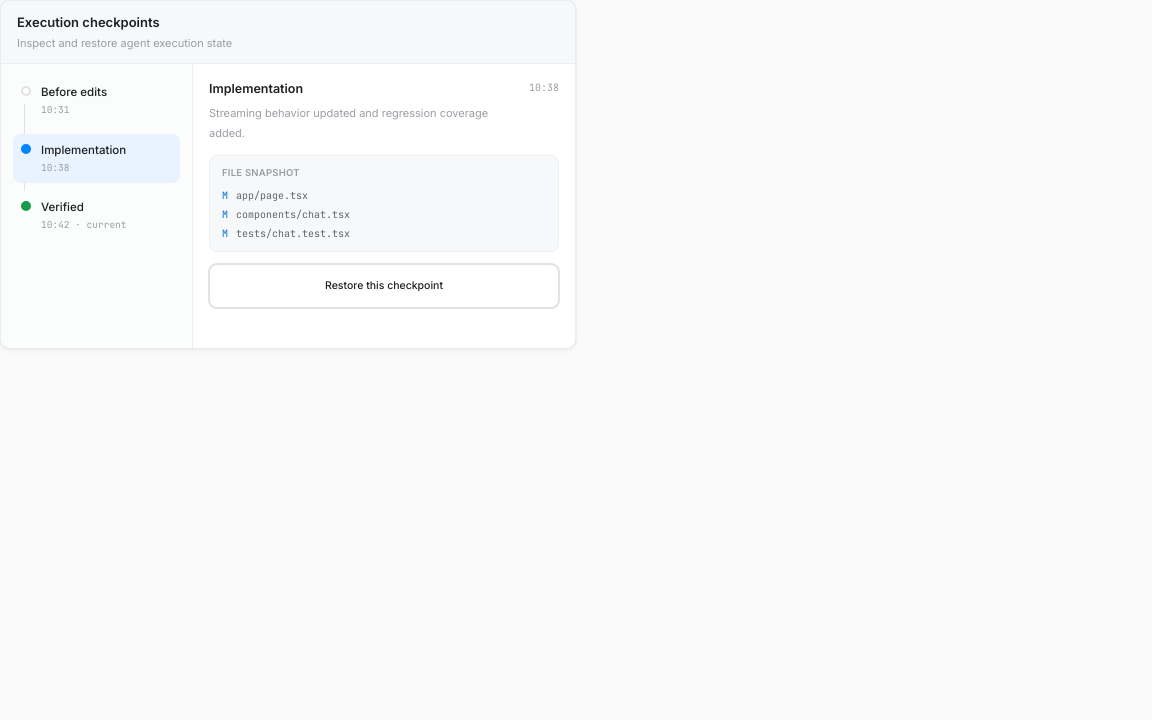
Scenario: CheckpointTimeline › requires confirmation and supports cancellation
What coordinates should you click on to do the following:
click the button with aria-label "Select checkpoint Before edits"
I would click on:
 (96, 101)
Its box is [13, 76, 180, 126].
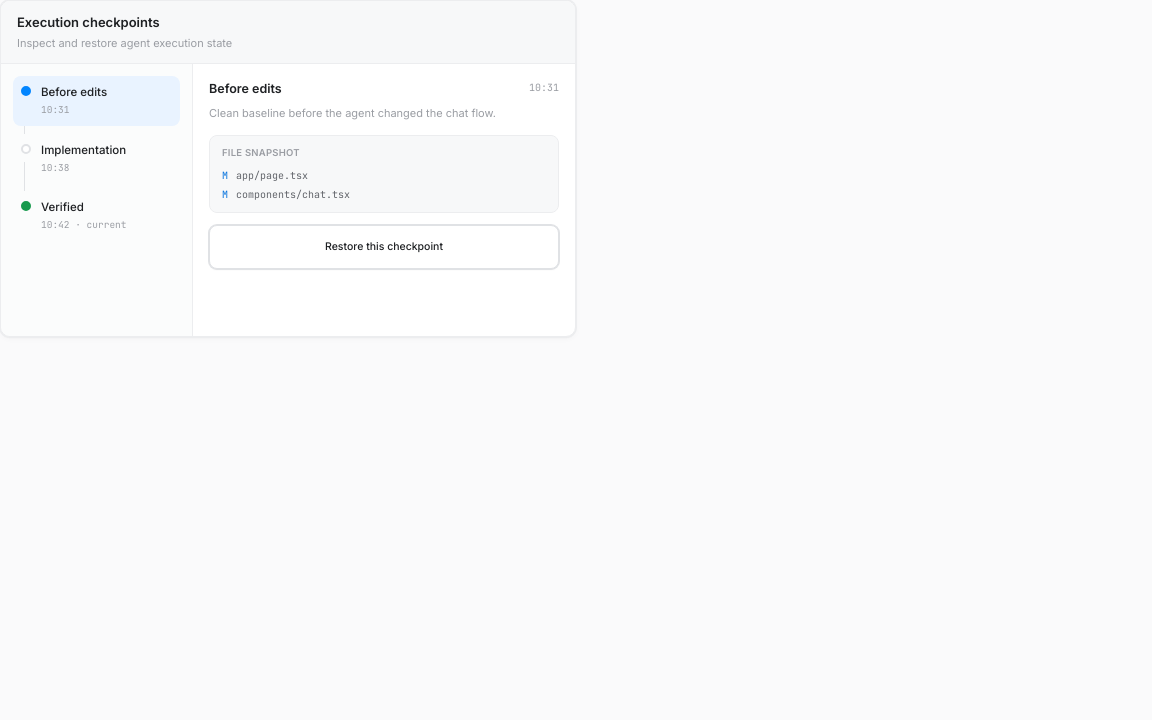
What coordinates should you click on to do the following:
click the button with aria-label "Restore checkpoint"
I would click on:
 (384, 247)
Its box is [209, 225, 559, 269].
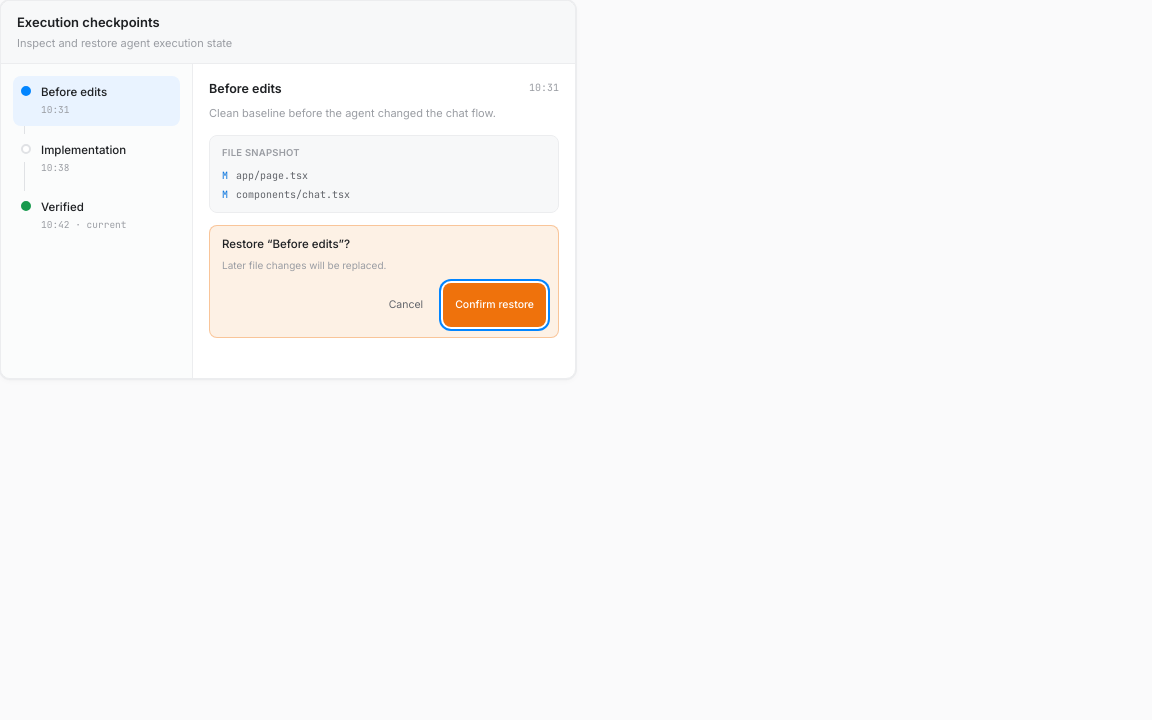
Expected: the text "Restore “Before edits”?" is shown, [222, 237, 350, 251]
What coordinates should you click on to do the following:
click the button with aria-label "Cancel restore"
I would click on:
 (406, 305)
Its box is [377, 283, 435, 327].
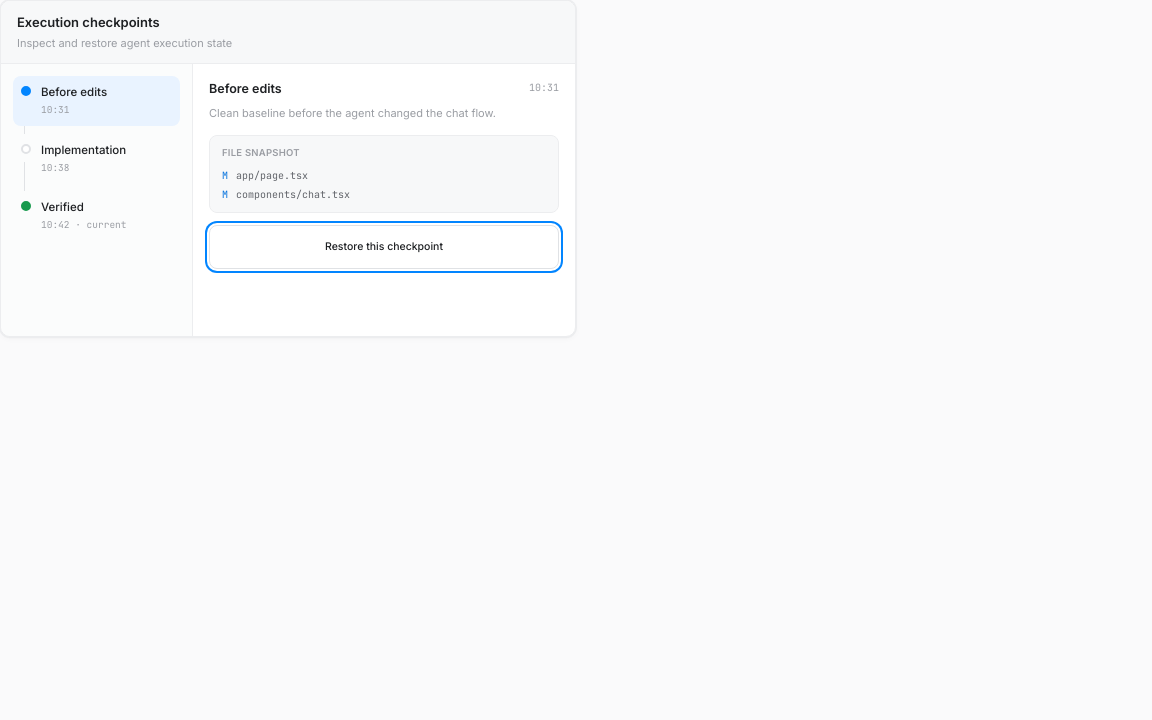
Expected: the text "Restore “Before edits”?" is gone
